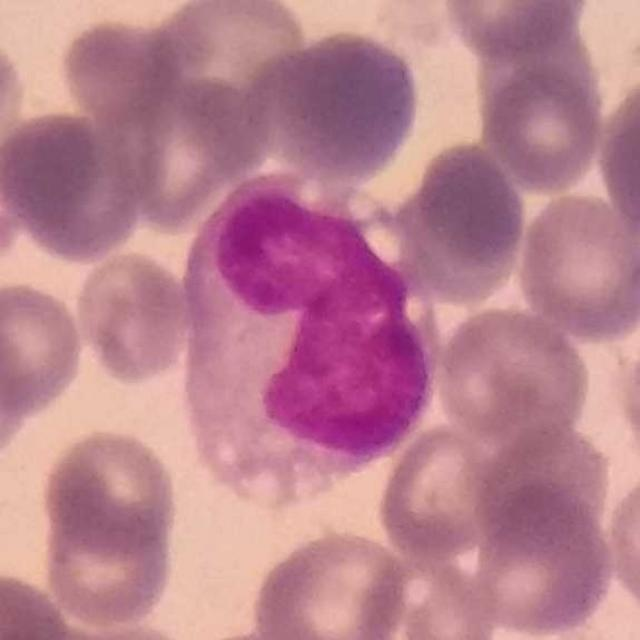mono: (184, 164, 450, 510)
